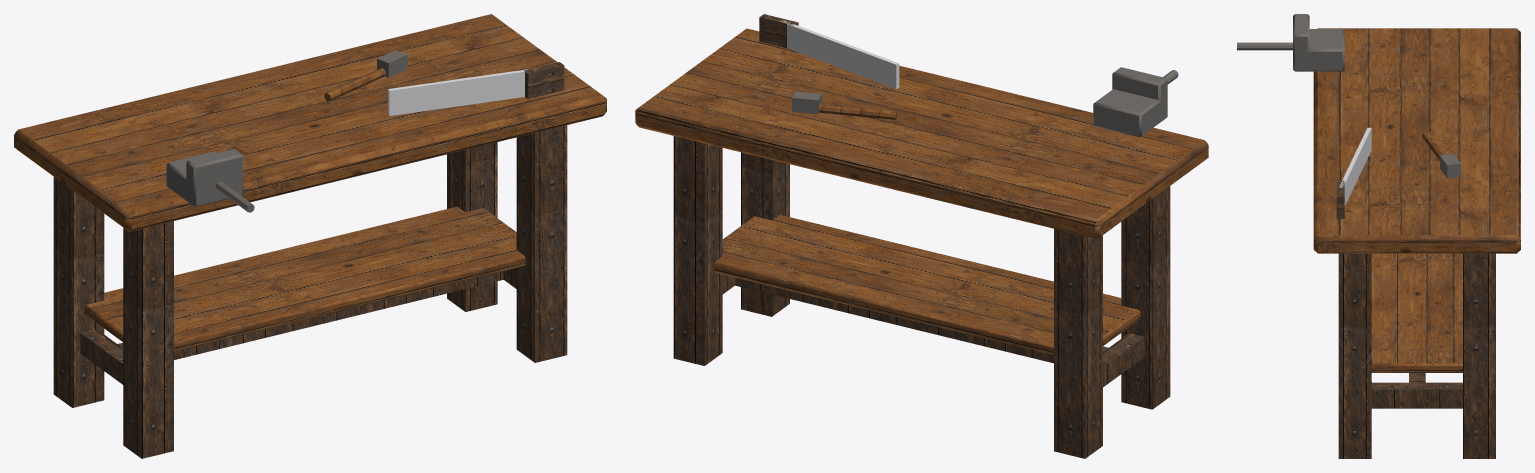
Rendered from workbench-v01.glb.
3 renders of one model, left to right at view 1: azimuth 30°, elevation 25°; view 2: azimuth 150°, elevation 25°; view 3: azimuth 270°, elevation 25°, orthographic. The views are drawn at different scales.
Parts seen in each view (by area): view 1: workbench; view 2: workbench; view 3: workbench.
Boxes of the visible parts, left/top/right/bottom form: workbench: left=14, top=14, right=606, bottom=458; workbench: left=635, top=14, right=1208, bottom=458; workbench: left=1237, top=14, right=1520, bottom=458.
Size of the model in its own units: 2.4 by 1.45 by 1.37.
Materials: 4 (2 with a texture image).
